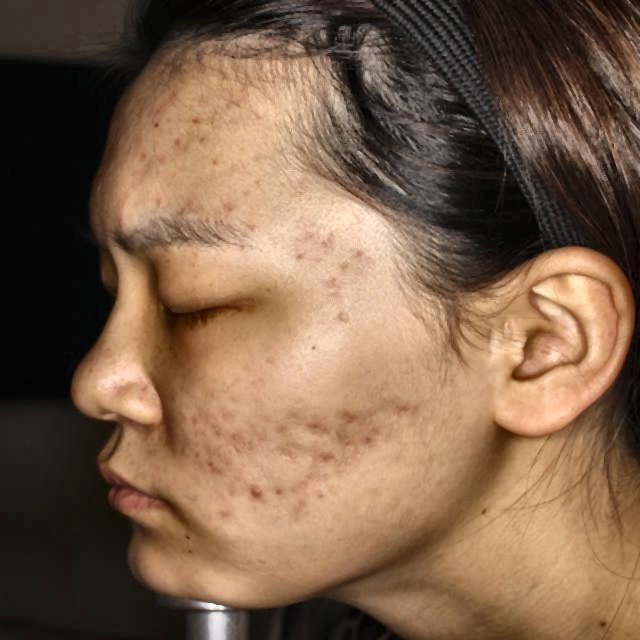comedone: (243, 478, 273, 512)
